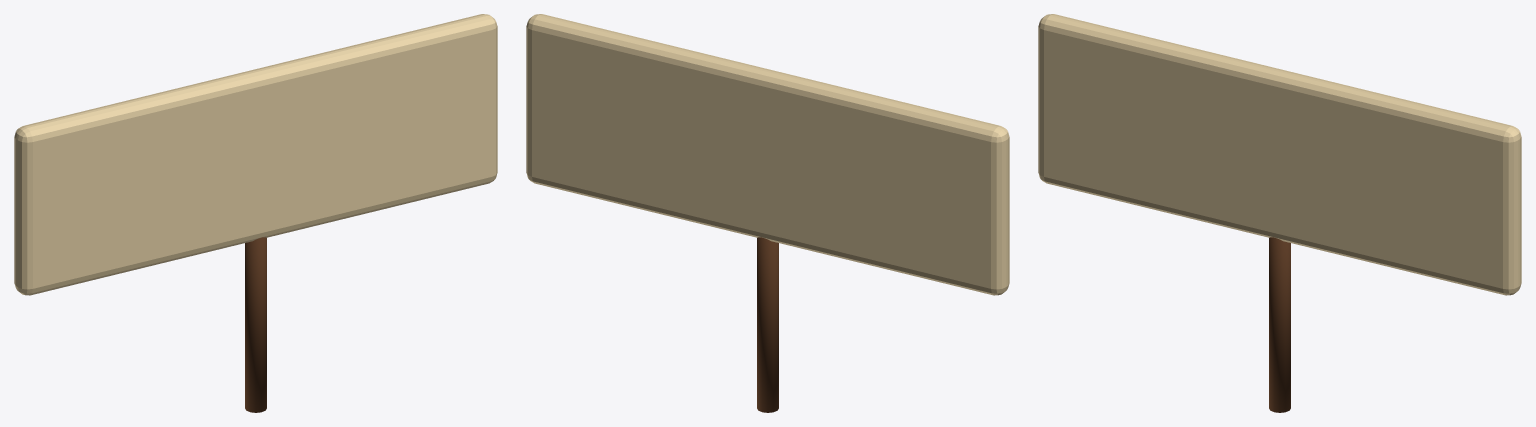
Rendered from CP09-label.glb.
3 views of the same model, side by side, from view 1: azimuth 30°, elevation 25°; view 2: azimuth 150°, elevation 25°; view 3: azimuth 330°, elevation 25° (orthographic).
Visible parts, largest first — view 1: CP09-label; view 2: CP09-label; view 3: CP09-label.
Part boxes in pixels (x1,y1,x2,y2): CP09-label: (14, 14, 497, 412); CP09-label: (526, 14, 1009, 412); CP09-label: (1038, 14, 1521, 412).
Bounding box in the file's own units: 0.75 × 0.505 × 0.035.
